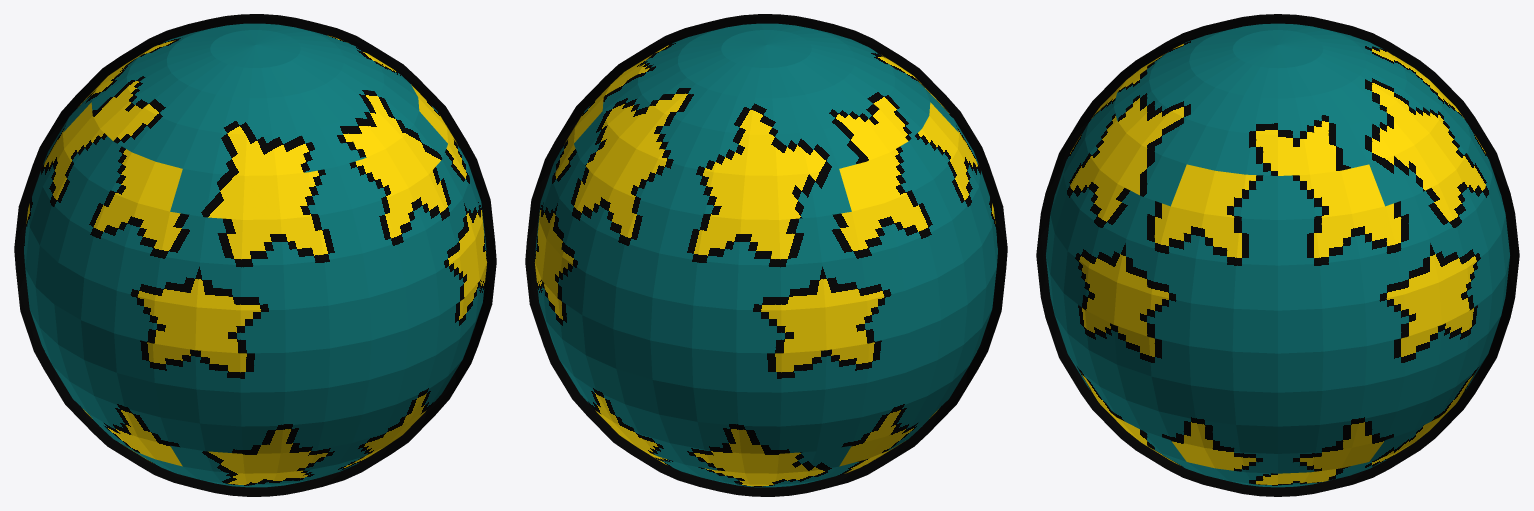
3 views of the same model, side by side, from view 1: azimuth 30°, elevation 25°; view 2: azimuth 150°, elevation 25°; view 3: azimuth 270°, elevation 25° (orthographic).
Visible parts, largest first — view 1: Ball; view 2: Ball; view 3: Ball.
Boxes of the visible parts, x1=… form: Ball: x1=14, y1=14, x2=496, y2=496; Ball: x1=525, y1=14, x2=1007, y2=496; Ball: x1=1036, y1=14, x2=1519, y2=496.
Size of the model in its own units: 0.5101 by 0.51 by 0.5101.
2 materials, 1 textured.
